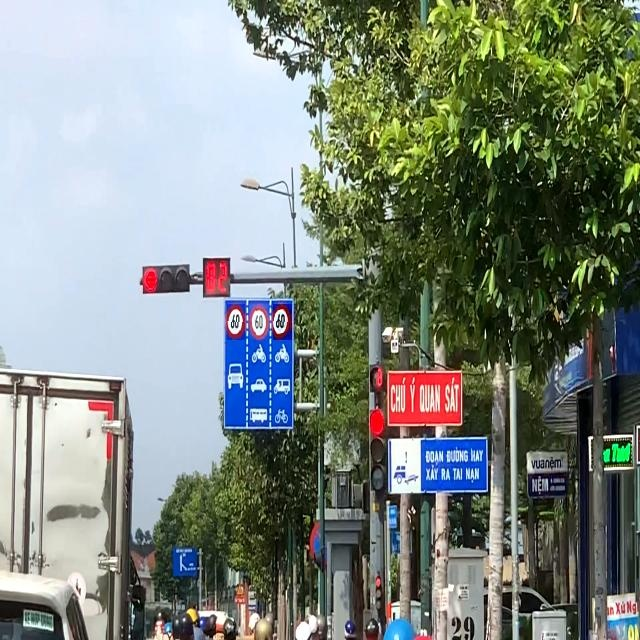bien_cam: (249, 304, 269, 339), (273, 304, 292, 340), (227, 304, 245, 340)
